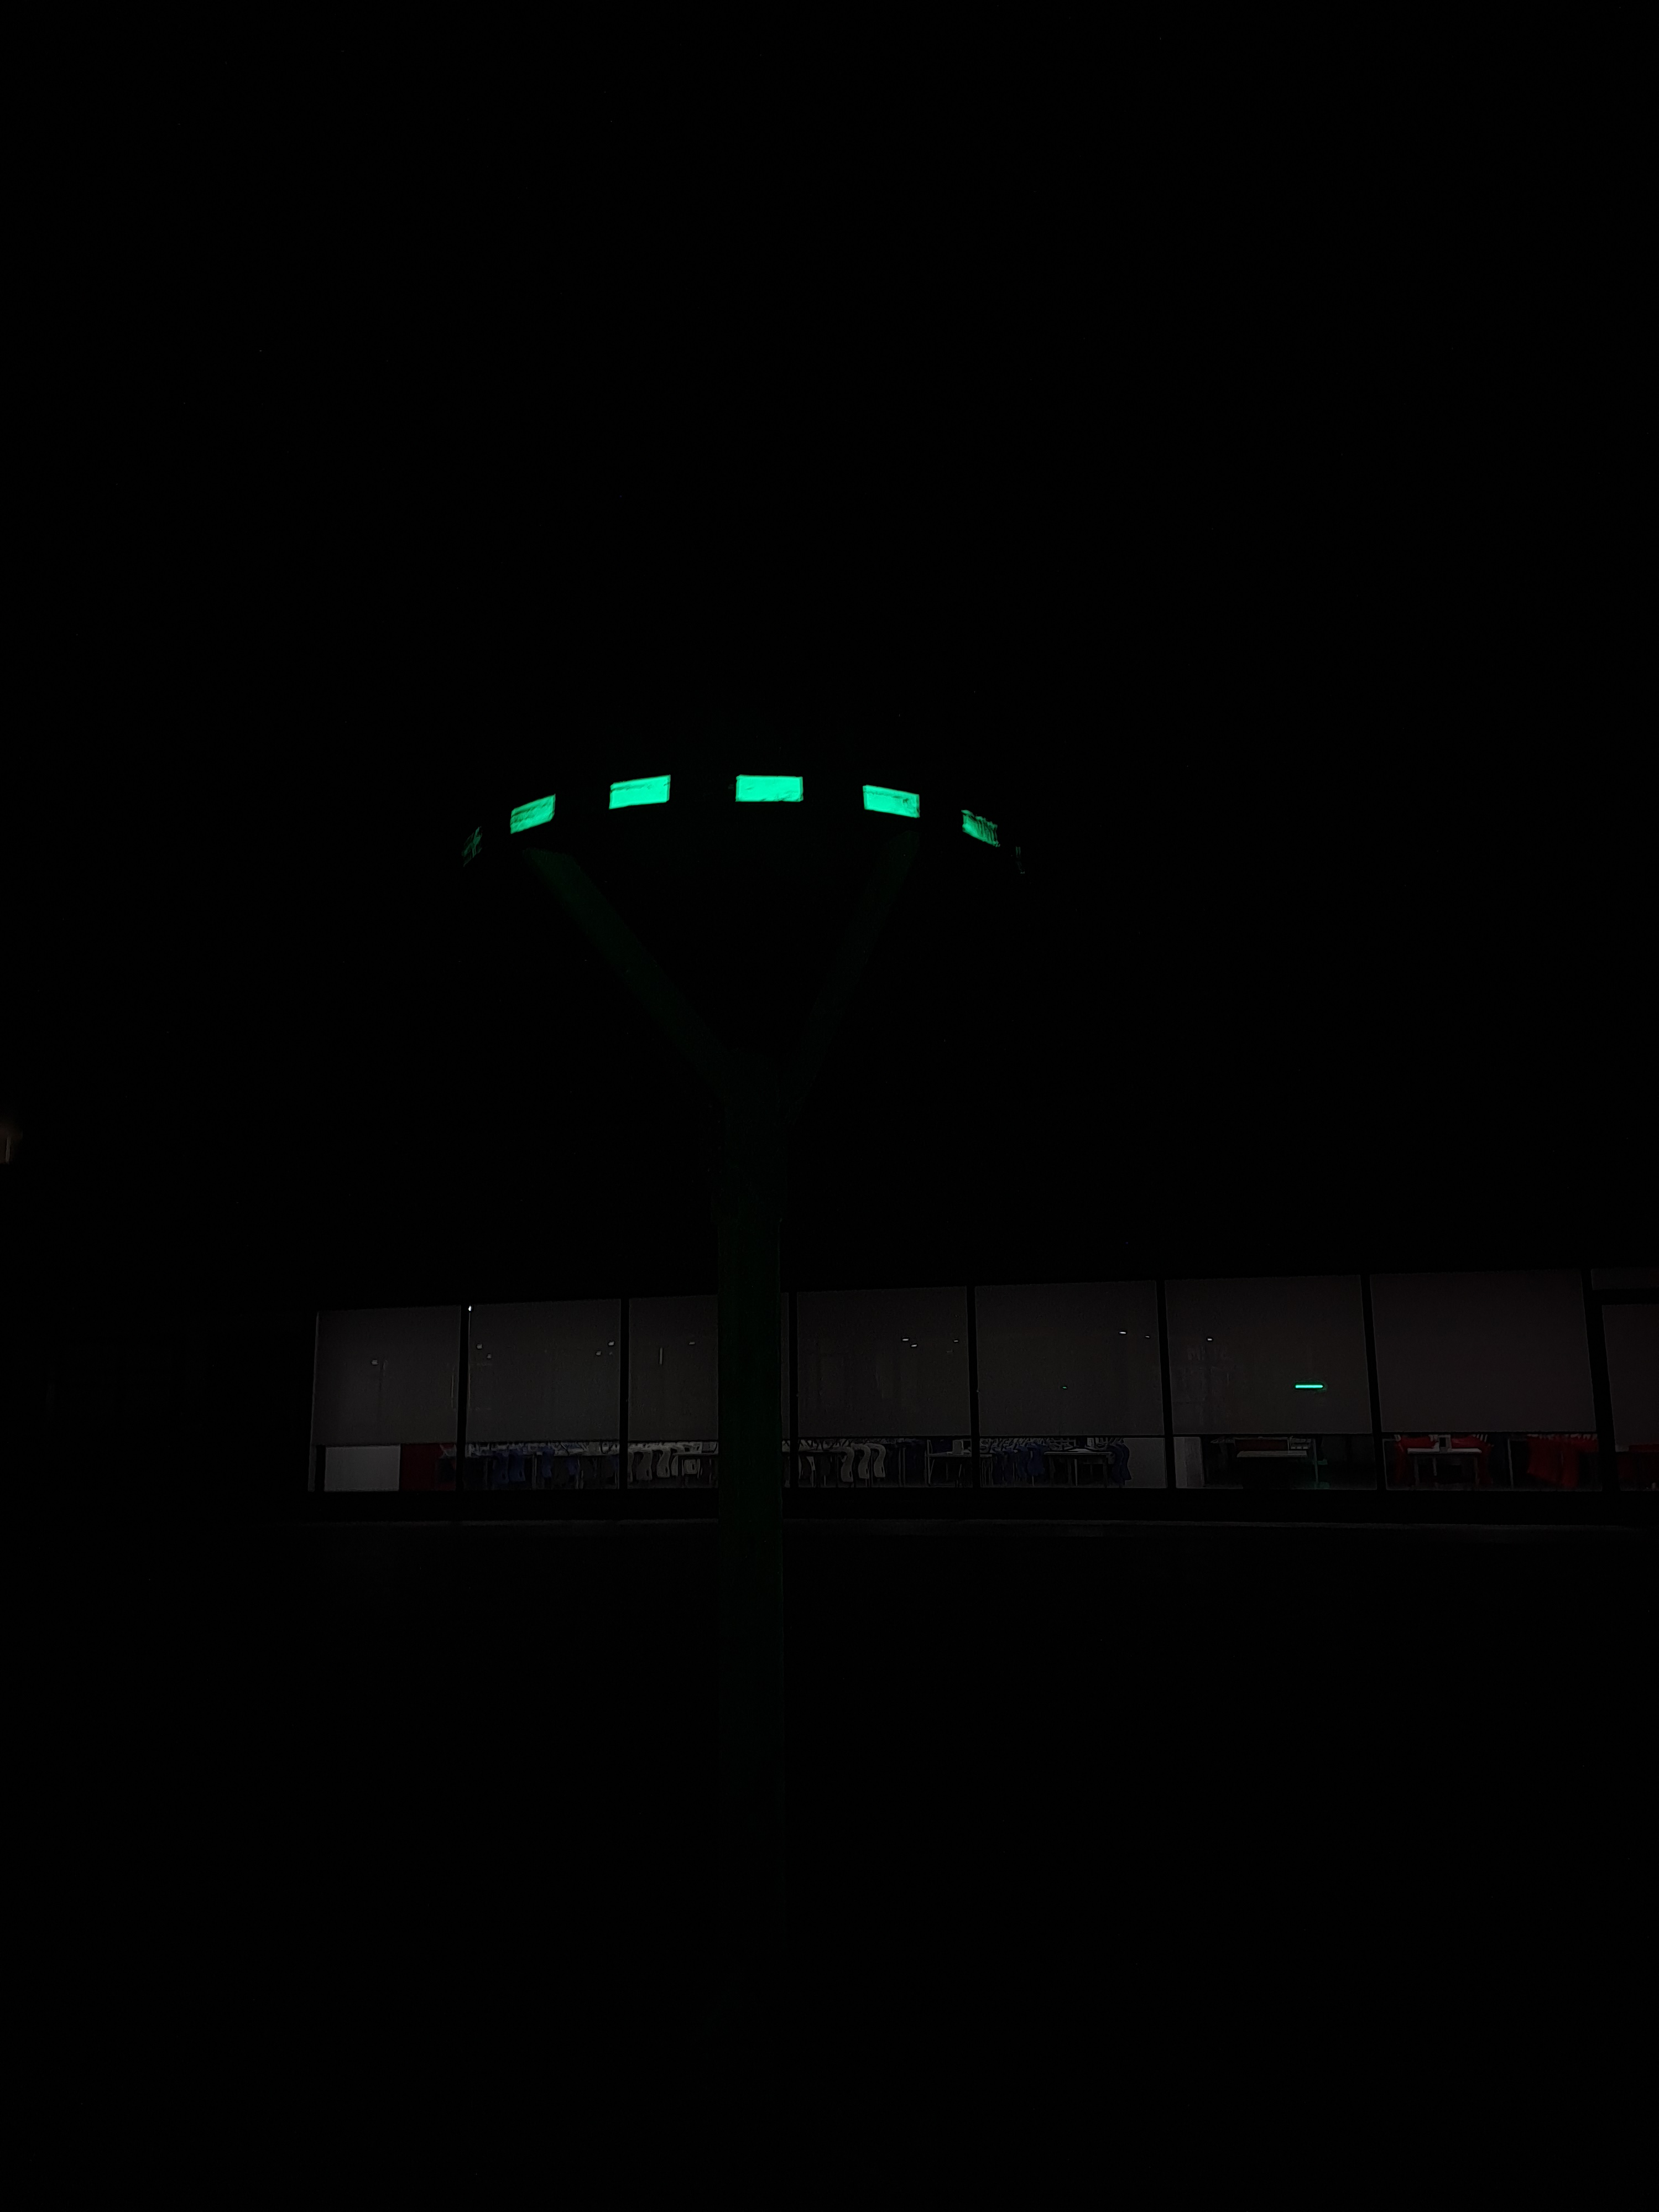hoop: (497, 768, 1011, 860)
